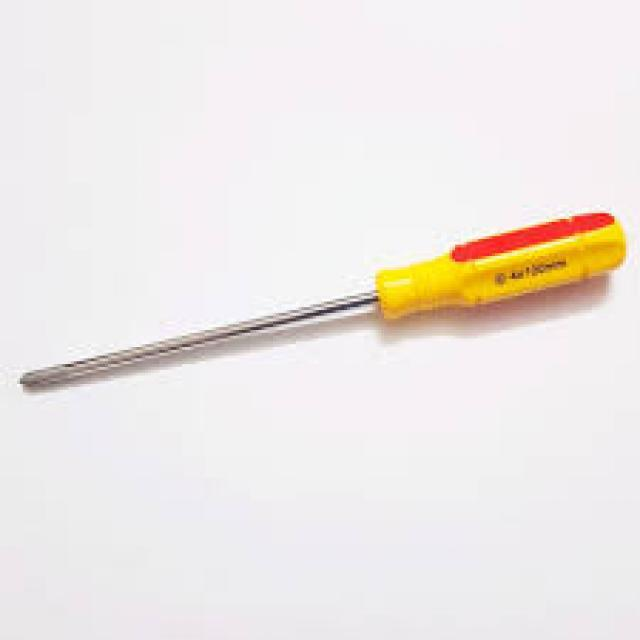screwdriver: (17, 206, 629, 388)
